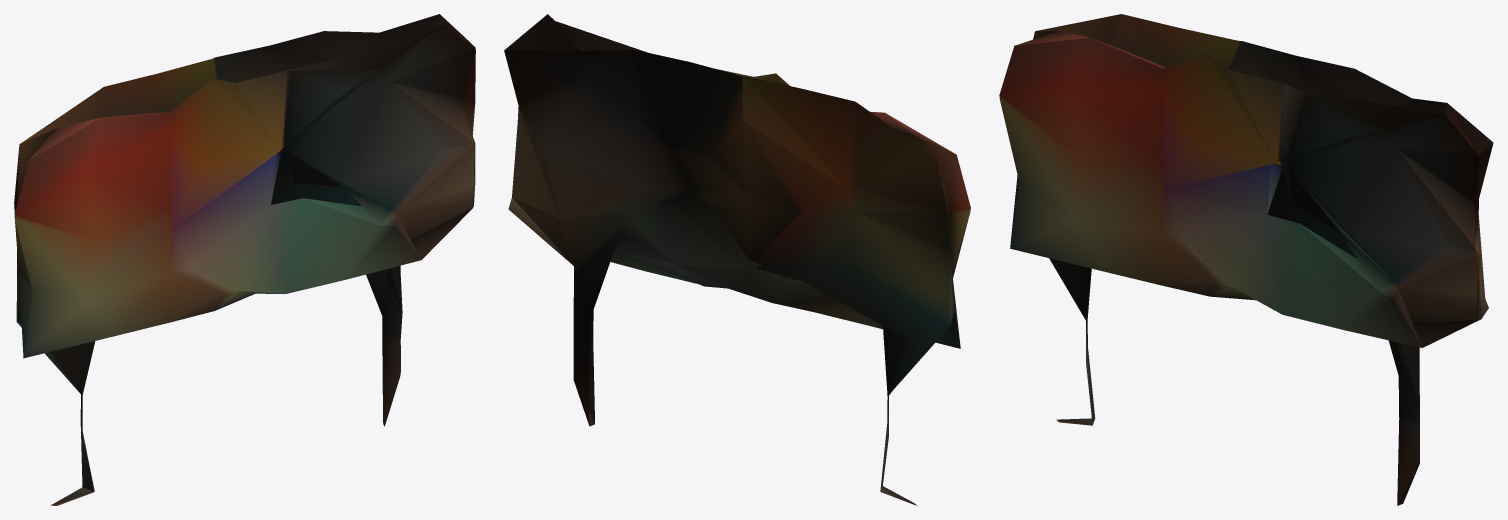
3 views of the same model, side by side, from view 1: azimuth 30°, elevation 25°; view 2: azimuth 150°, elevation 25°; view 3: azimuth 330°, elevation 25° (orthographic). The views are drawn at different scales.
Bounding box in the file's own units: 6 × 5 × 0.4.
